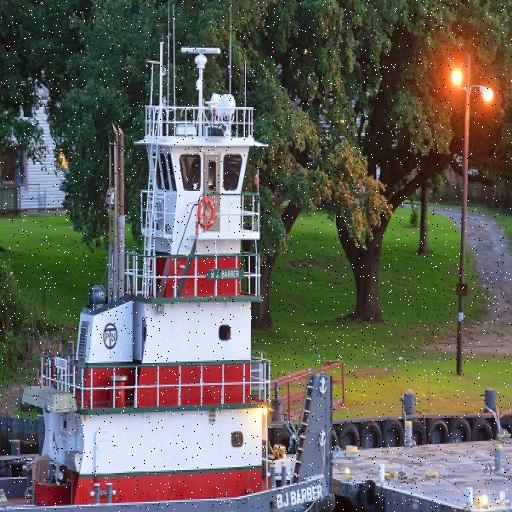tugboat: (1, 41, 340, 512)
